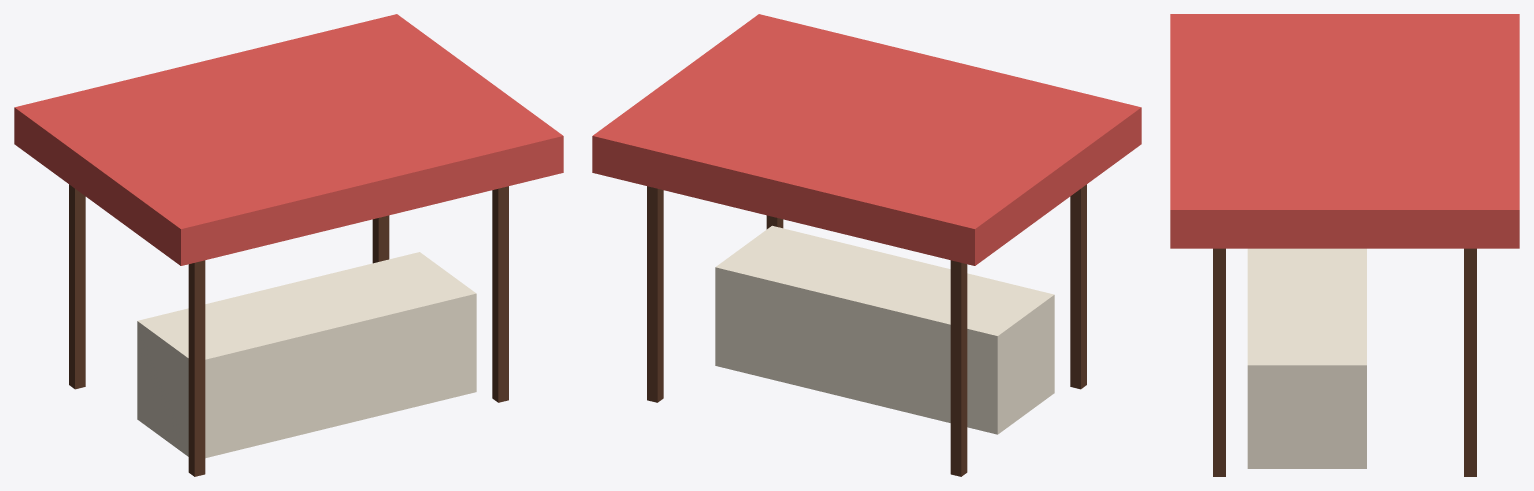
File: prop_lapak.fbx
The picture shows the model from 3 angles, left to right: view 1: azimuth 30°, elevation 25°; view 2: azimuth 150°, elevation 25°; view 3: azimuth 270°, elevation 25°; orthographic projection. The views are drawn at different scales.
Visible parts, largest first — view 1: prop_lapak; view 2: prop_lapak; view 3: prop_lapak.
Part boxes in pixels (x1,y1,x2,y2): prop_lapak: (14,14,563,476); prop_lapak: (592,14,1141,476); prop_lapak: (1170,14,1519,476).
Size of the model in its own units: 325 by 220 by 245.
1 material, 1 textured.
